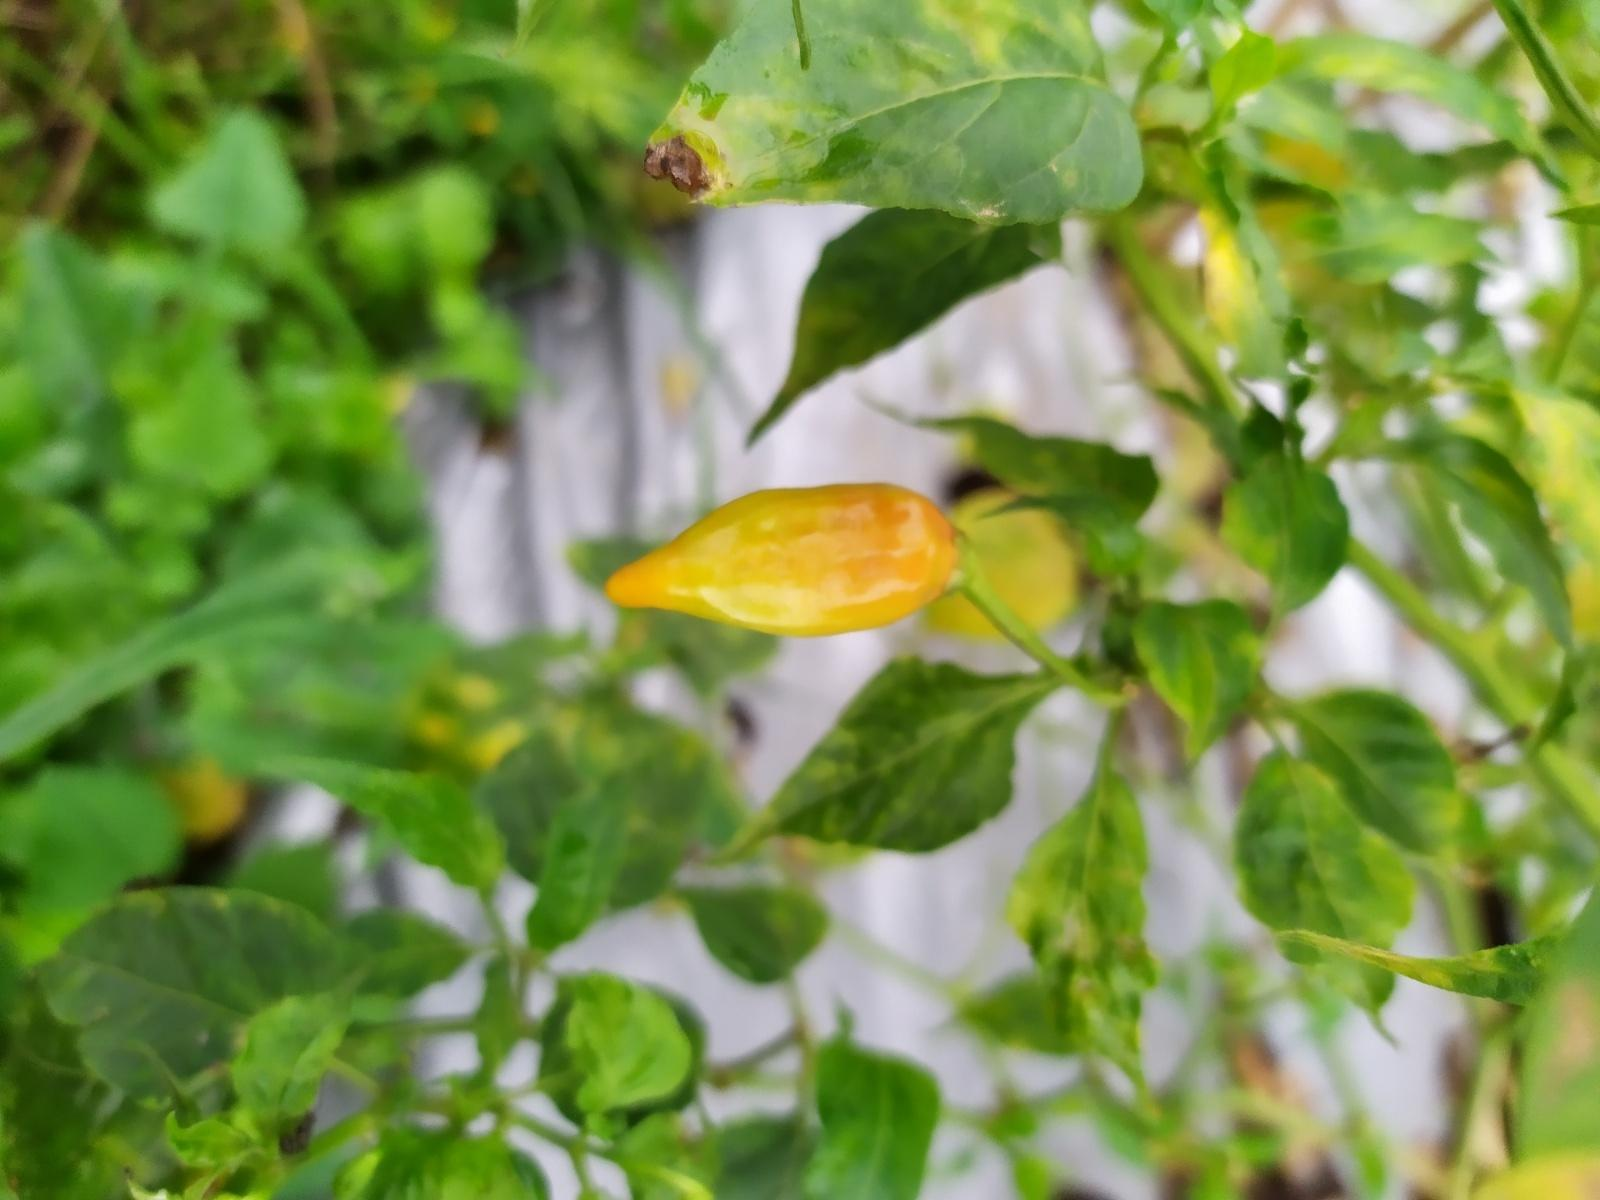cabai_normal: (603, 483, 963, 639)
